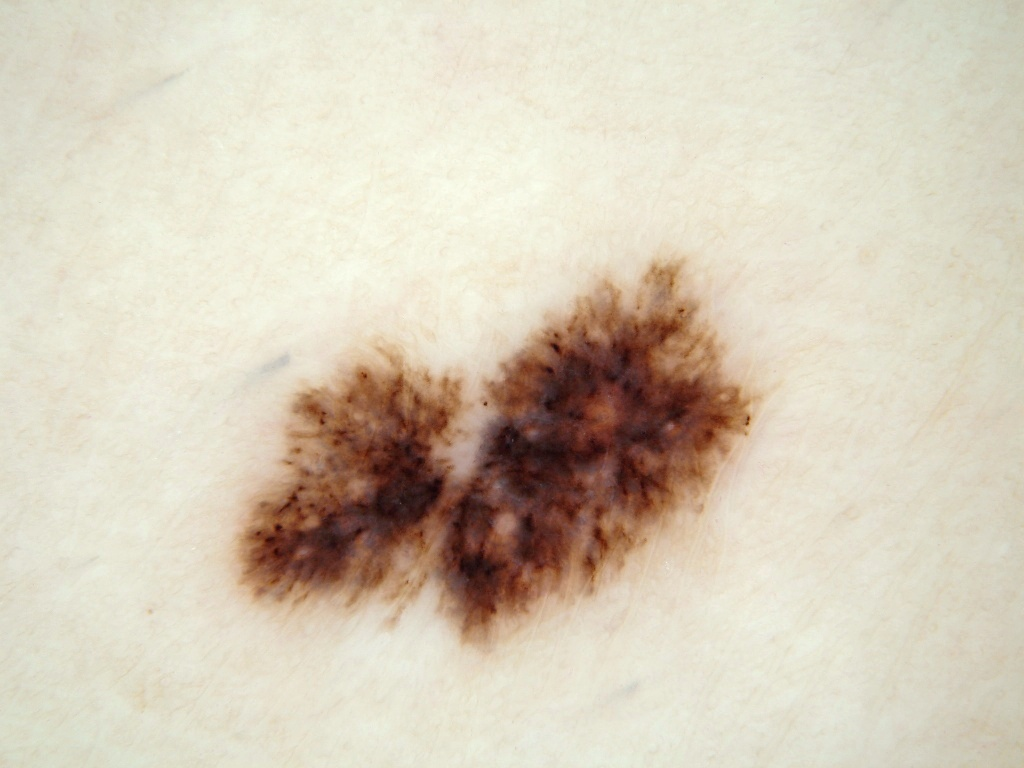Detected Lesion: (226, 246, 768, 661)
